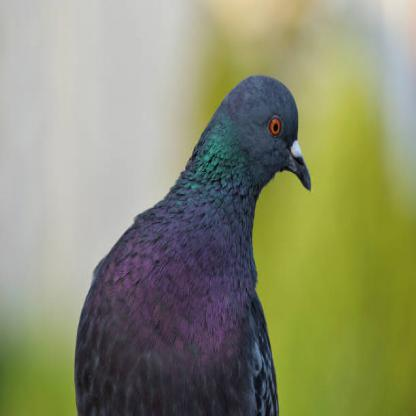Flying Rat: (72, 74, 313, 416)
